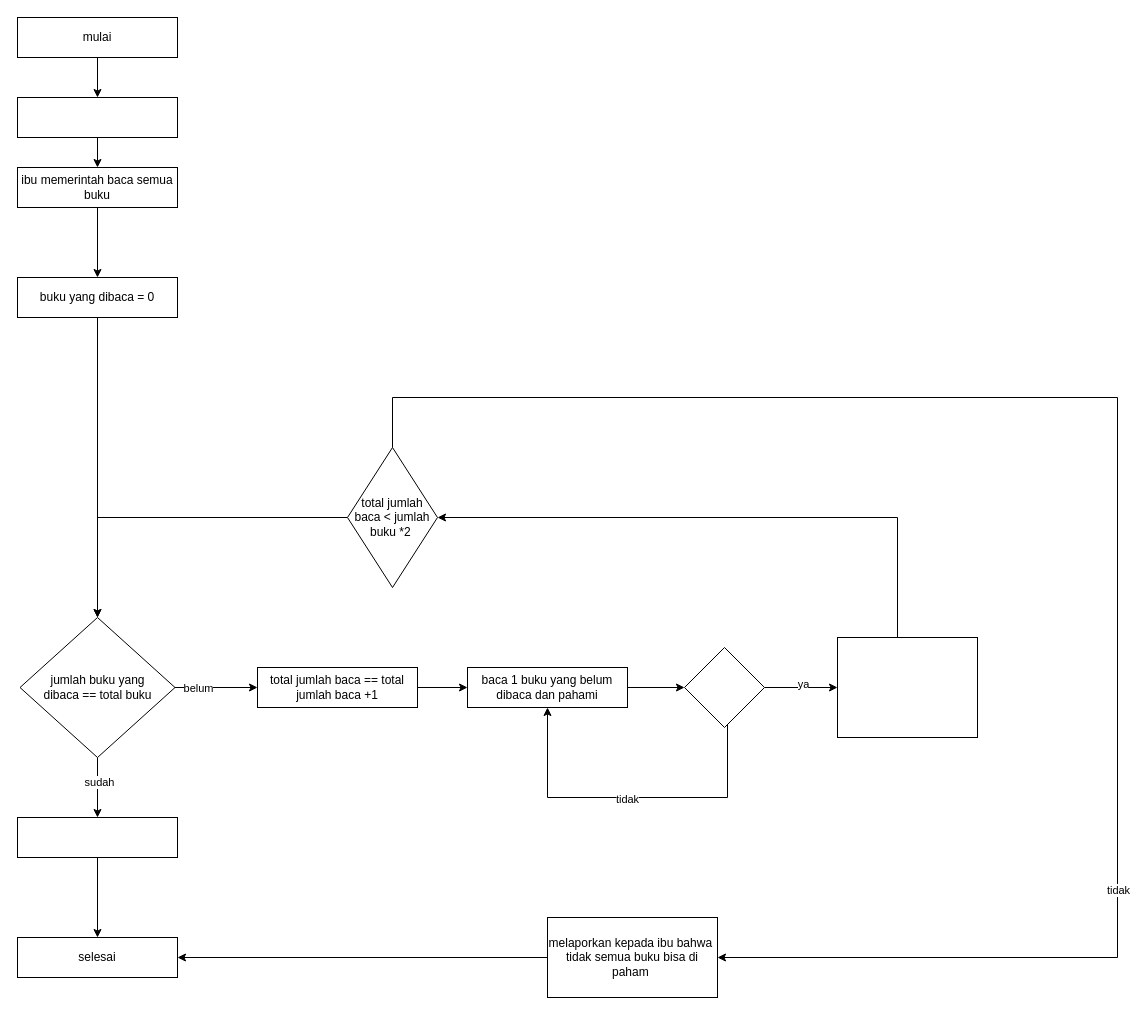
Image size: 1147x1015. Some labels were removed from this diagram. The shapes that lost their labels are listed below. From the top down, each one's centre as x and y in pixels, then its label:
point 97,117: total buku = 10
point 724,687: paham
point 907,687: total buku yang dibaca dan dipahami = total buku yang sudah dibaca dan pahami +1
point 97,837: melaporkan buku telah dibaca semua
